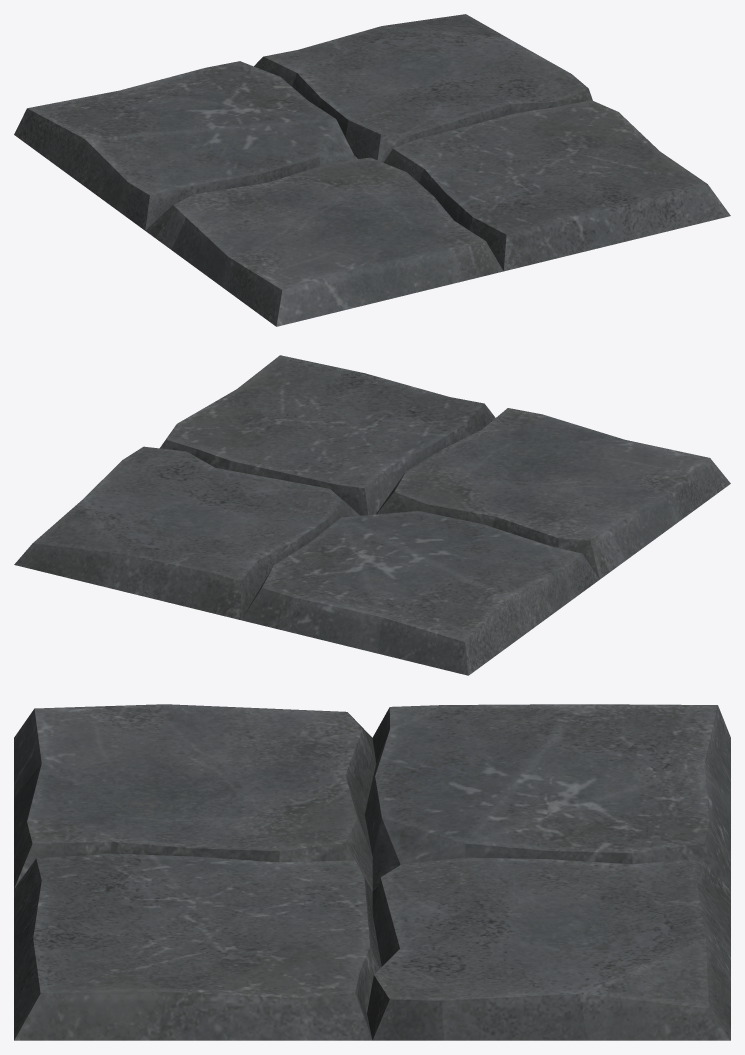
Rendered from Floor2.fbx.
3 views of the same model, one above another, from view 1: azimuth 30°, elevation 25°; view 2: azimuth 150°, elevation 25°; view 3: azimuth 270°, elevation 25° (orthographic). The views are drawn at different scales.
Visible parts, largest first — view 1: FLOOR_Type2; view 2: FLOOR_Type2; view 3: FLOOR_Type2.
Part boxes in pixels (x1,y1,x2,y2): FLOOR_Type2: (14,14,730,326); FLOOR_Type2: (14,355,730,675); FLOOR_Type2: (14,704,730,1040).
Size of the model in its own units: 8 by 0.5428 by 8.
1 material, 1 textured.
